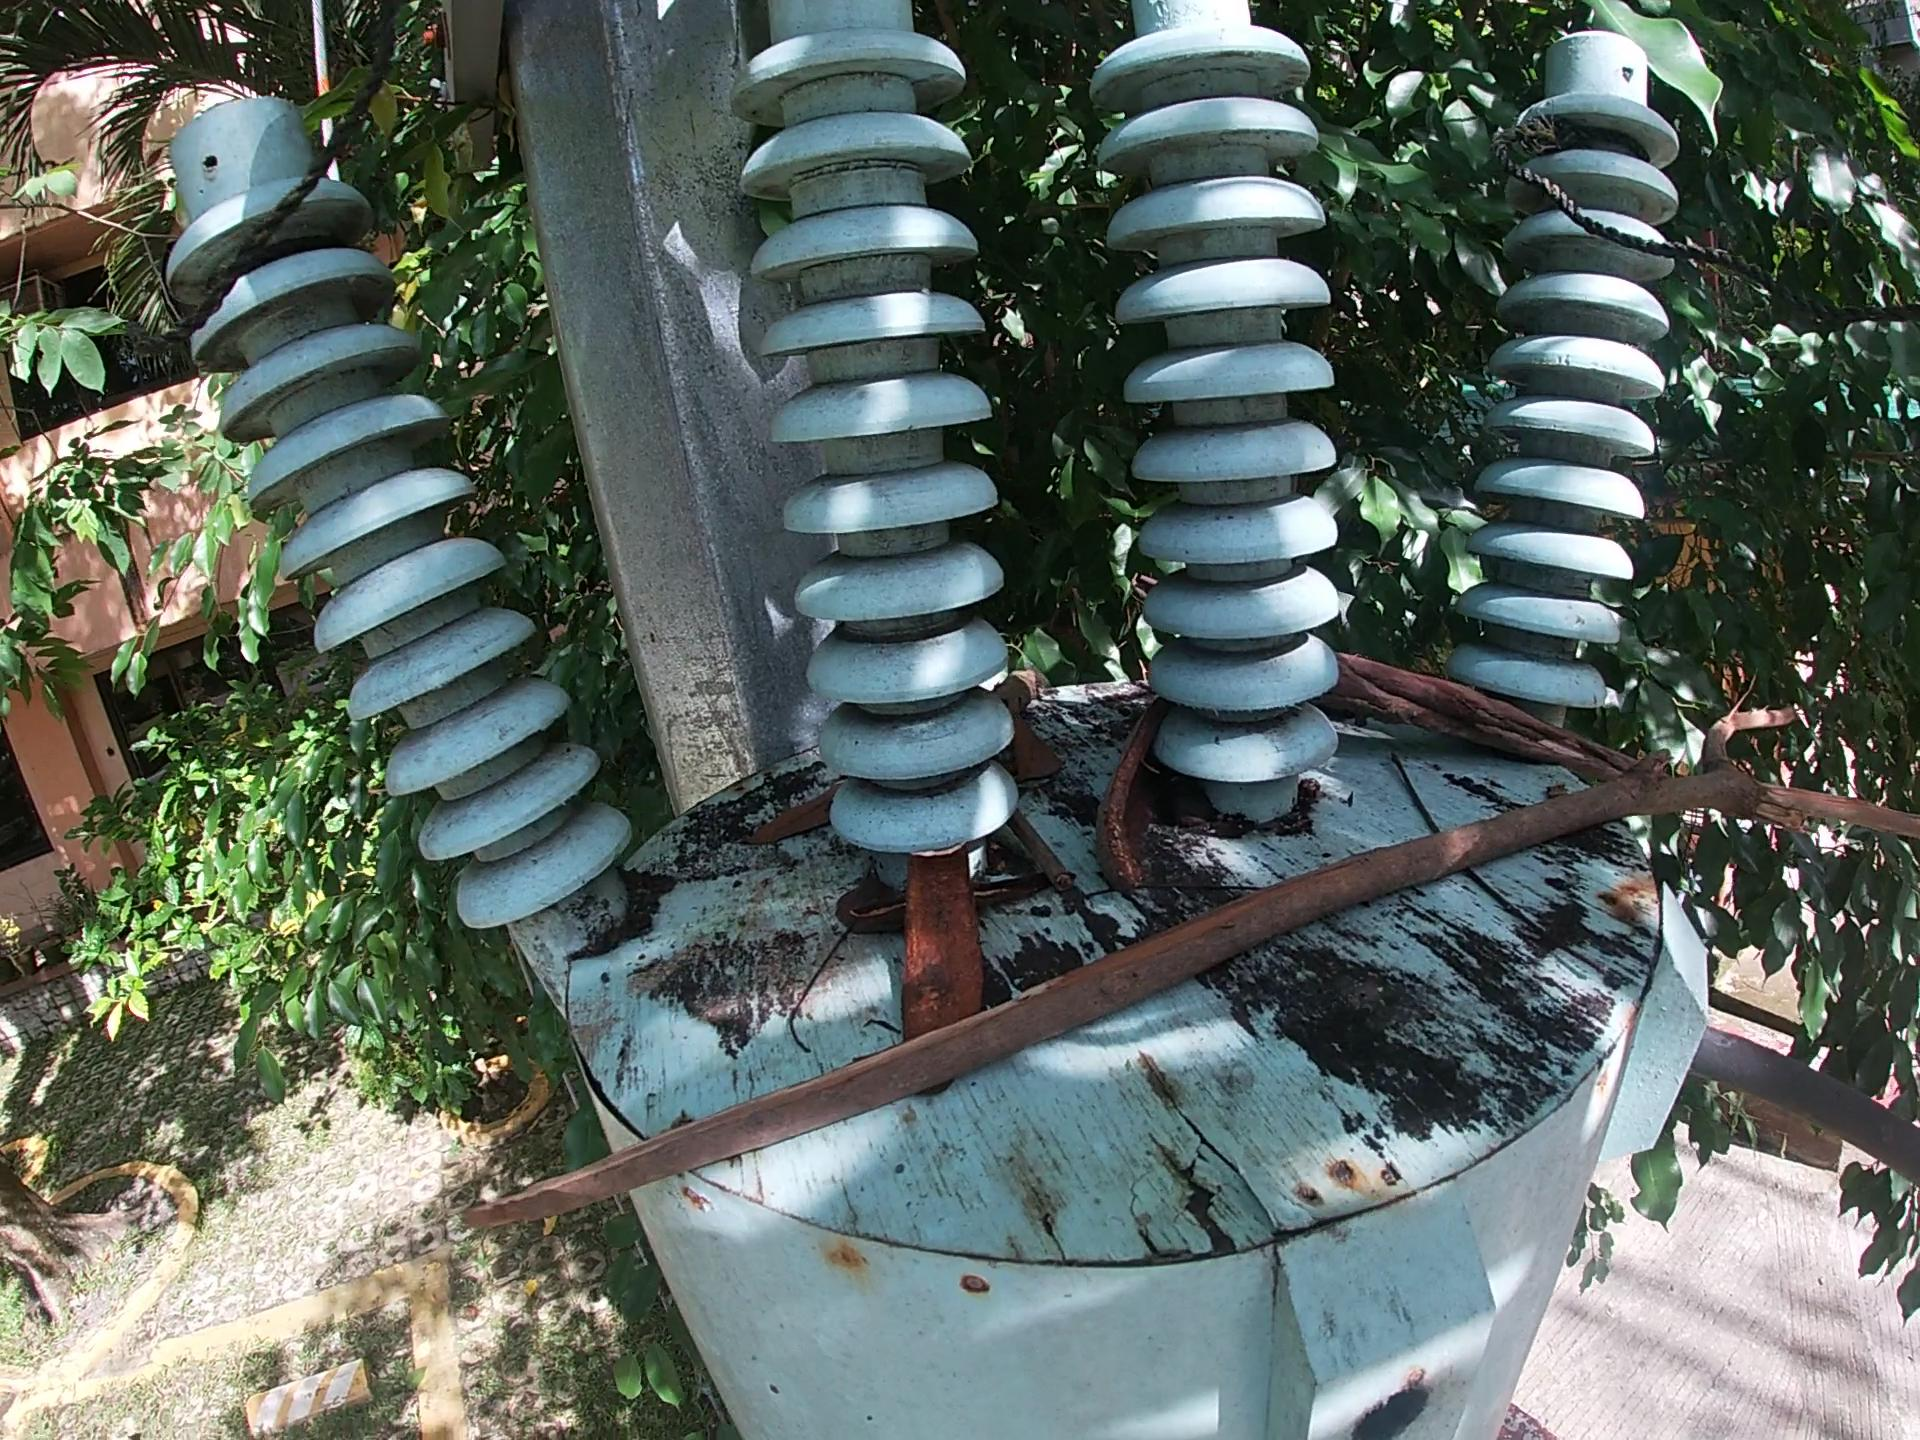leaf: (736, 796, 828, 862), (1010, 723, 1069, 796), (835, 880, 875, 945)
mahogany fruit: (900, 839, 980, 1036), (1110, 684, 1150, 909)
tree branch: (449, 685, 1920, 1275), (1330, 632, 1637, 787), (1463, 858, 1581, 950), (773, 936, 850, 1069), (1014, 806, 1084, 908), (1092, 874, 1262, 909), (1383, 743, 1438, 832), (992, 661, 1054, 703), (863, 895, 928, 921), (965, 877, 1030, 903)
